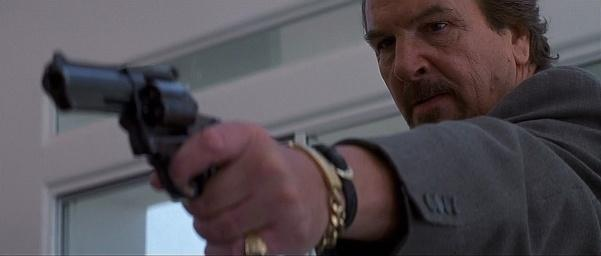Gun: (40, 52, 227, 203)
